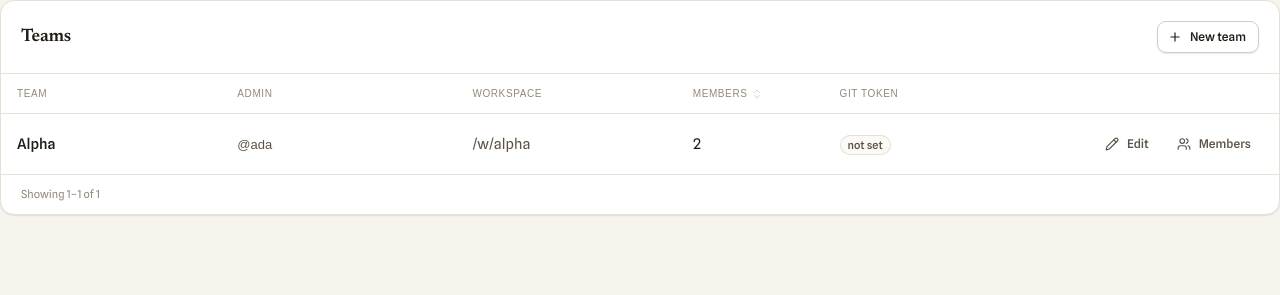
Test: TeamsPanel › still says a genuinely empty team is empty
Click the button "Members" in the row of "ada" at (1215, 144), box [1167,128,1263,160]
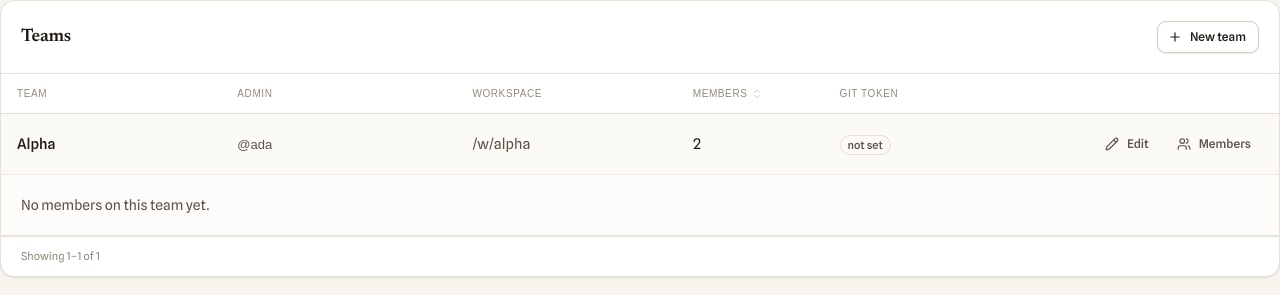
Check: the text "No members on this team yet." is shown, box [21,197,209,213]
